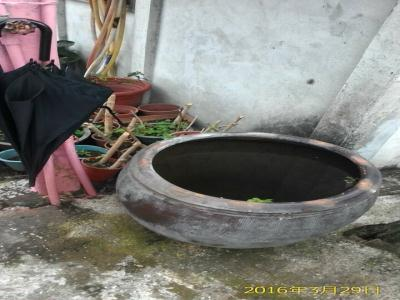bowl: (109, 124, 384, 253)
